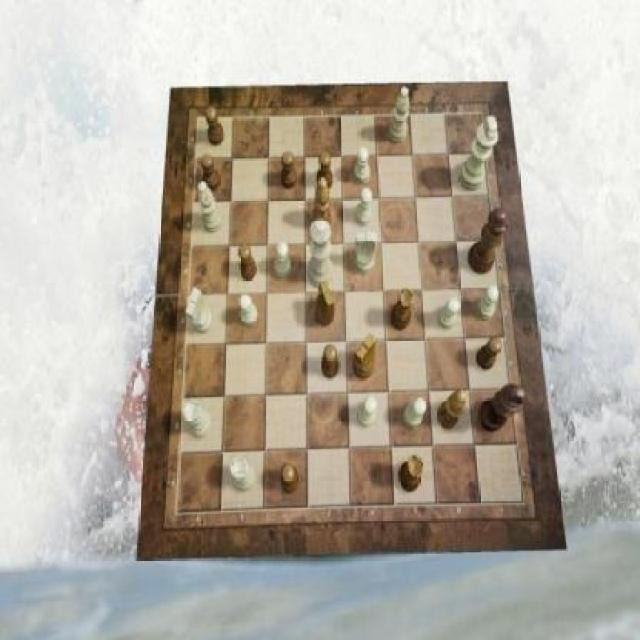bishop: (437, 391, 467, 431), (312, 177, 332, 231)
black-bishop: (479, 385, 526, 432)
black-king: (354, 334, 377, 379), (316, 280, 336, 326)
black-knight: (477, 338, 503, 371), (238, 243, 258, 281), (207, 106, 226, 146), (202, 154, 222, 191), (280, 151, 297, 188), (317, 152, 333, 191), (322, 345, 339, 379), (282, 463, 300, 494)
black-pawn: (468, 210, 510, 276)
black-queen: (398, 455, 424, 493), (391, 288, 414, 330)
black-rook: (199, 181, 223, 234), (389, 88, 410, 144)
white-bishop: (458, 115, 498, 190)
white-king: (186, 288, 214, 334), (355, 231, 378, 273)
white-knight: (437, 298, 460, 331), (477, 285, 499, 319), (404, 397, 428, 428), (355, 188, 373, 226), (357, 397, 377, 429), (238, 294, 258, 326), (274, 242, 291, 279), (354, 146, 370, 184)
white-pawn: (308, 220, 334, 289)
white-queen: (183, 400, 212, 438), (232, 457, 257, 491)
